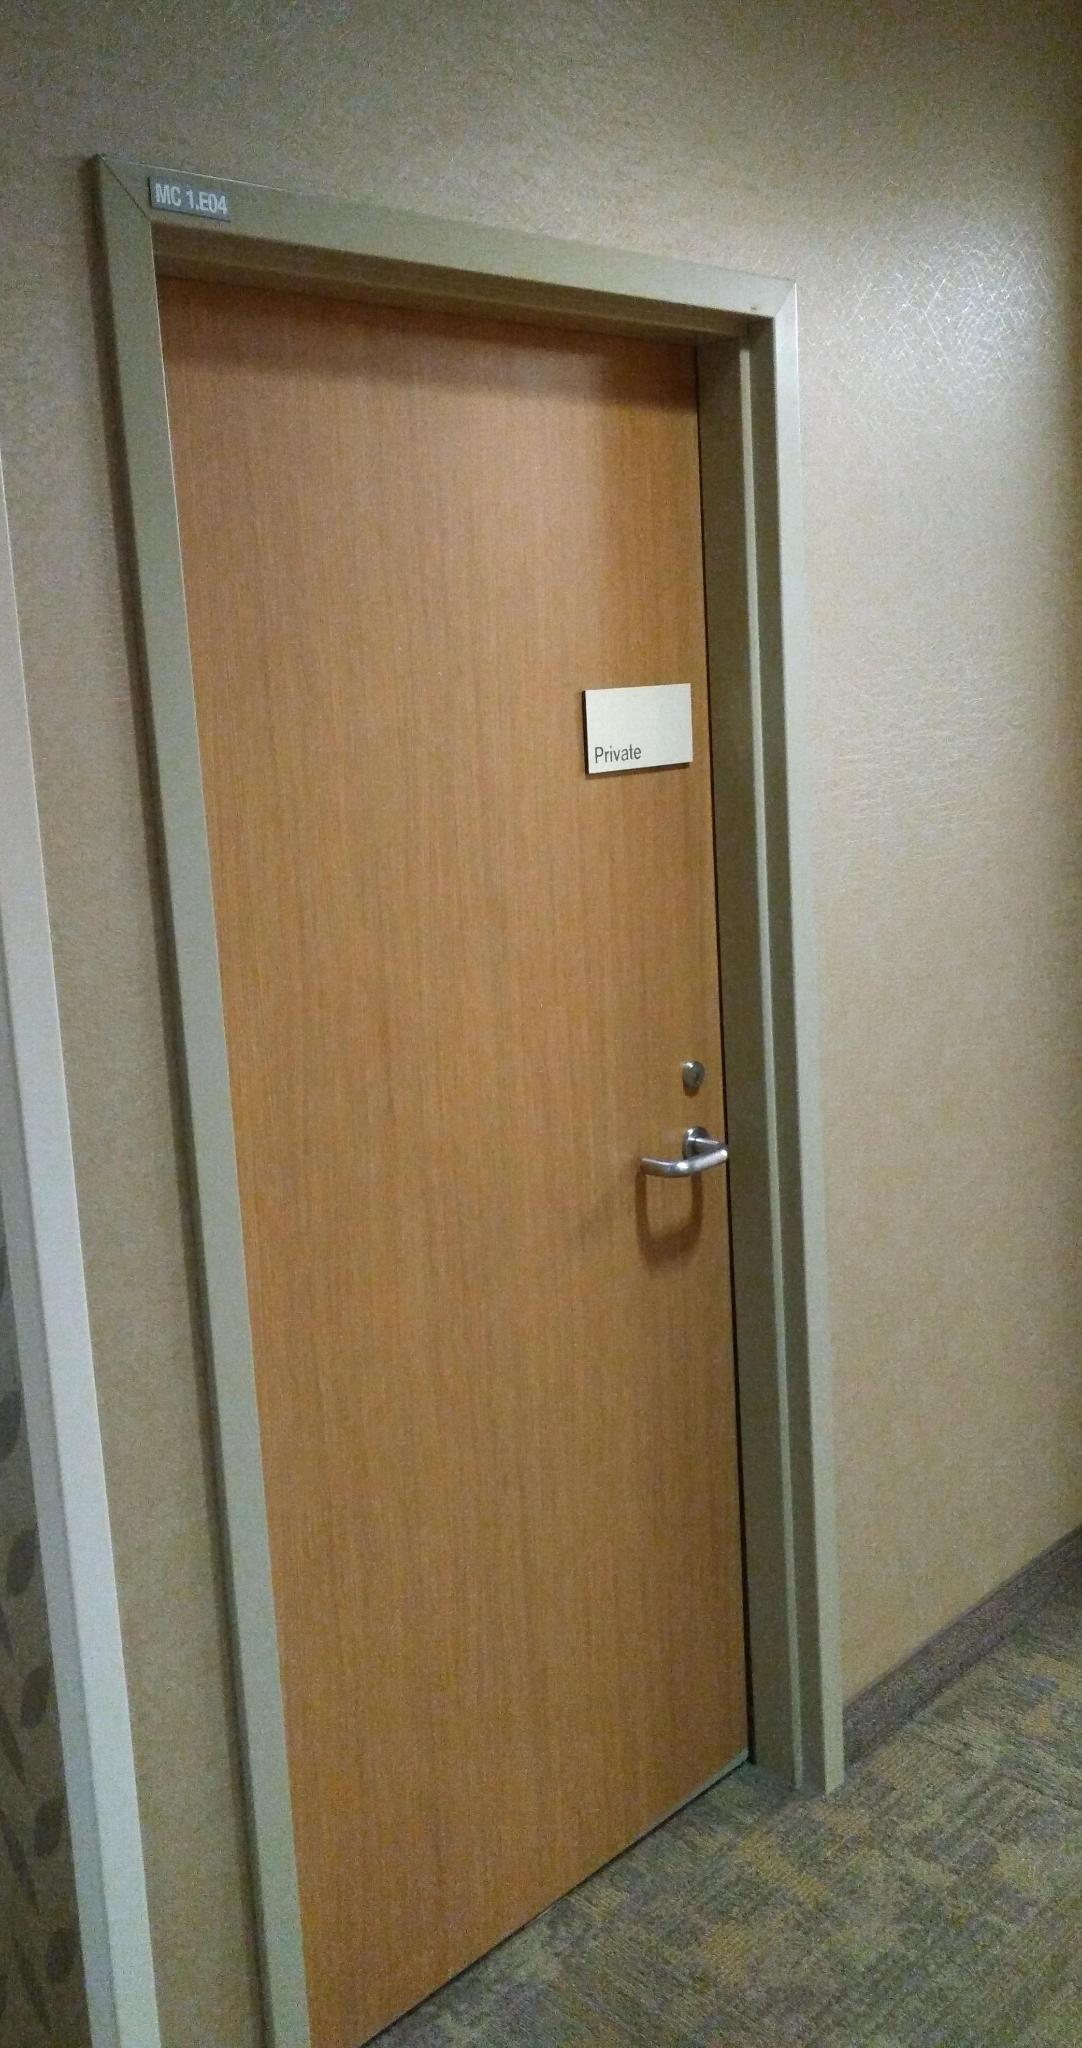door: (274, 375, 734, 1849)
handle: (647, 1089, 729, 1229)
